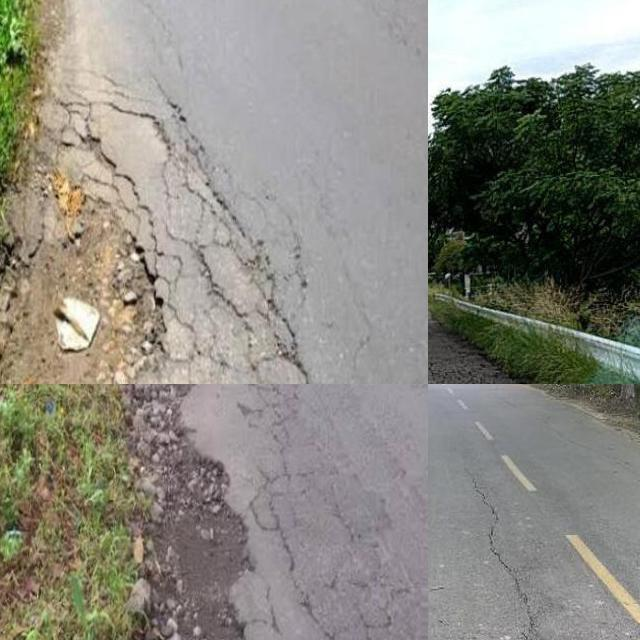Memanjang: (467, 487, 553, 640)
Pinggir: (0, 53, 304, 384), (133, 384, 269, 640)
